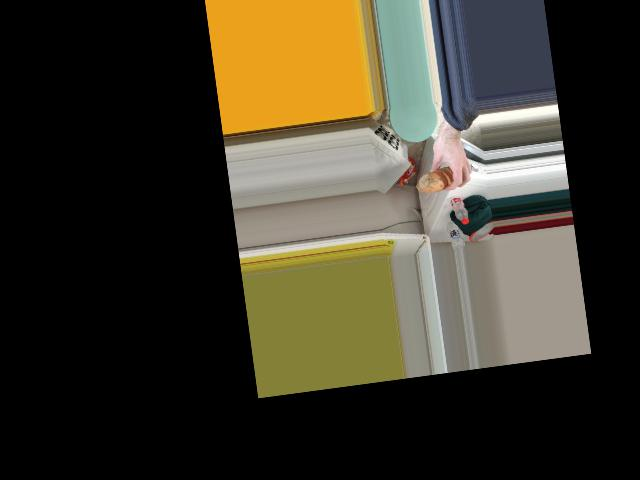sweet_potato: (423, 160, 458, 195)
